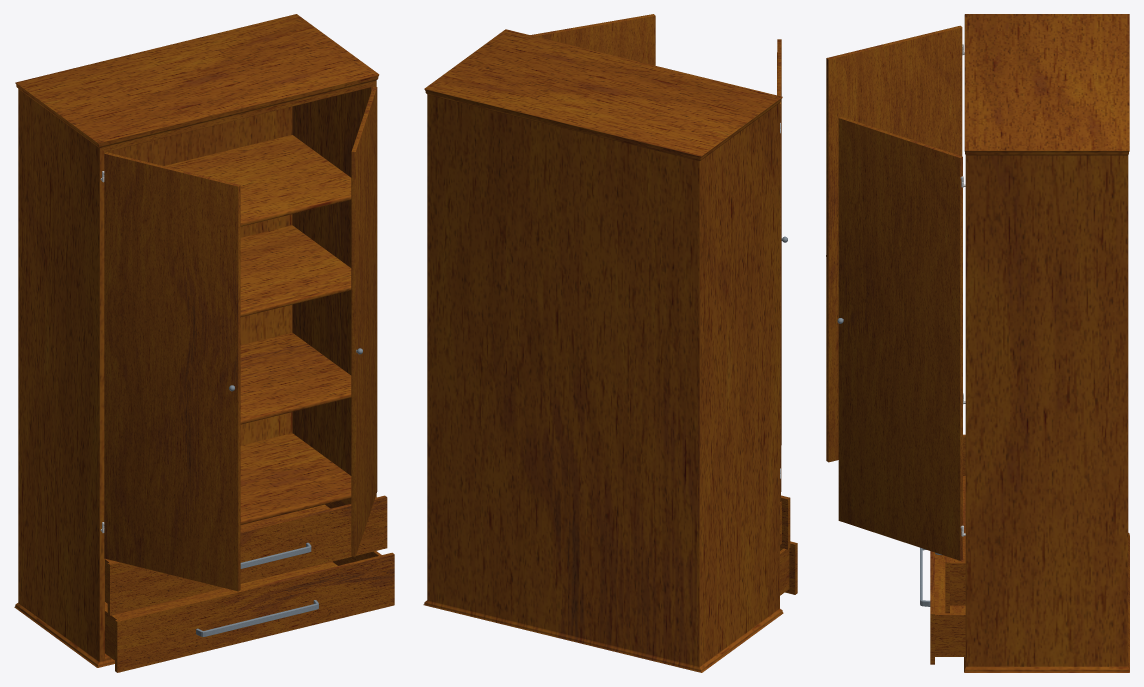
File: Wardrobe.fbx
3 renders of one model, left to right at view 1: azimuth 30°, elevation 25°; view 2: azimuth 150°, elevation 25°; view 3: azimuth 270°, elevation 25°, orthographic.
Parts seen in each view (by area): view 1: Cube, Cube.003, Cube.001, Cube.004, Sphere.001, Cube.002, Cube.007, Cube.006, Cube.005; view 2: Cube, Sphere.001, Cube.003, Cube.001, Cube.004; view 3: Cube, Sphere.001, Cube.003, Cube.001, Cube.004.
Boxes of the visible parts, x1=… form: Cube: x1=14, y1=14, x2=379, y2=667; Cube.003: x1=102, y1=152, x2=240, y2=591; Cube.001: x1=105, y1=551, x2=394, y2=672; Cube.004: x1=105, y1=495, x2=387, y2=615; Sphere.001: x1=351, y1=86, x2=377, y2=556; Cube.002: x1=164, y1=135, x2=351, y2=226; Cube.007: x1=240, y1=433, x2=351, y2=524; Cube.006: x1=240, y1=332, x2=351, y2=424; Cube.005: x1=240, y1=225, x2=351, y2=316; Cube: x1=423, y1=29, x2=783, y2=672; Sphere.001: x1=530, y1=14, x2=655, y2=65; Cube.003: x1=777, y1=39, x2=787, y2=502; Cube.001: x1=780, y1=541, x2=797, y2=595; Cube.004: x1=780, y1=495, x2=790, y2=549; Cube: x1=961, y1=14, x2=1129, y2=672; Sphere.001: x1=837, y1=116, x2=963, y2=560; Cube.003: x1=826, y1=25, x2=963, y2=462; Cube.001: x1=920, y1=547, x2=965, y2=664; Cube.004: x1=935, y1=434, x2=965, y2=613.
Size of the model in its own units: 102 by 180 by 95.05.
